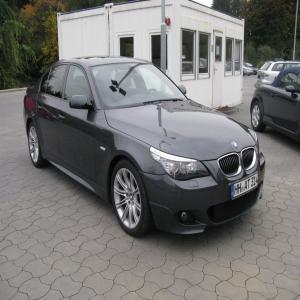Vehicle-registration-plate: (232, 170, 260, 202)
